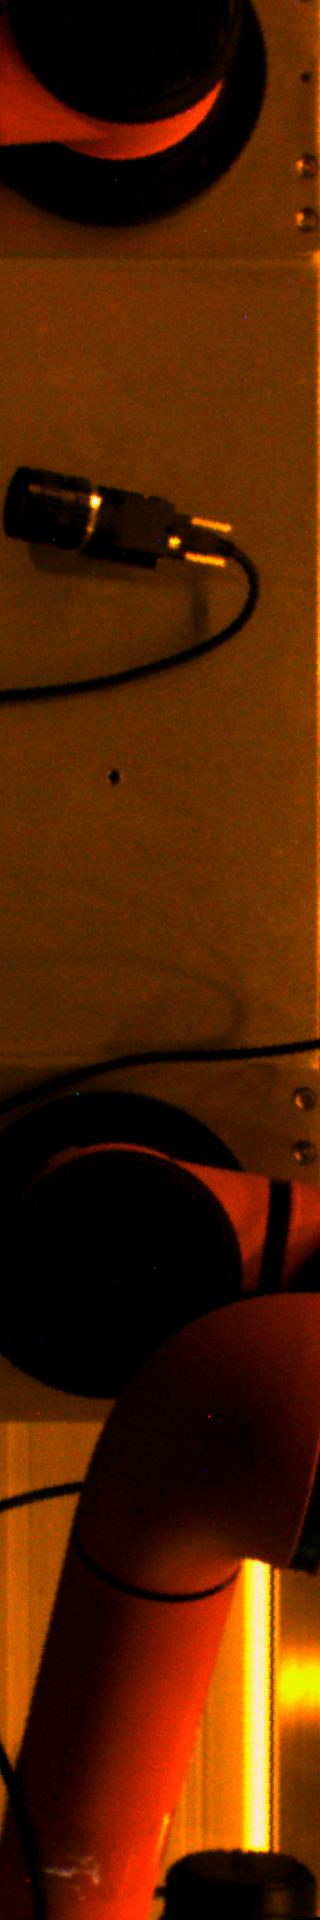keyPoint_2: (98, 763, 128, 793)
